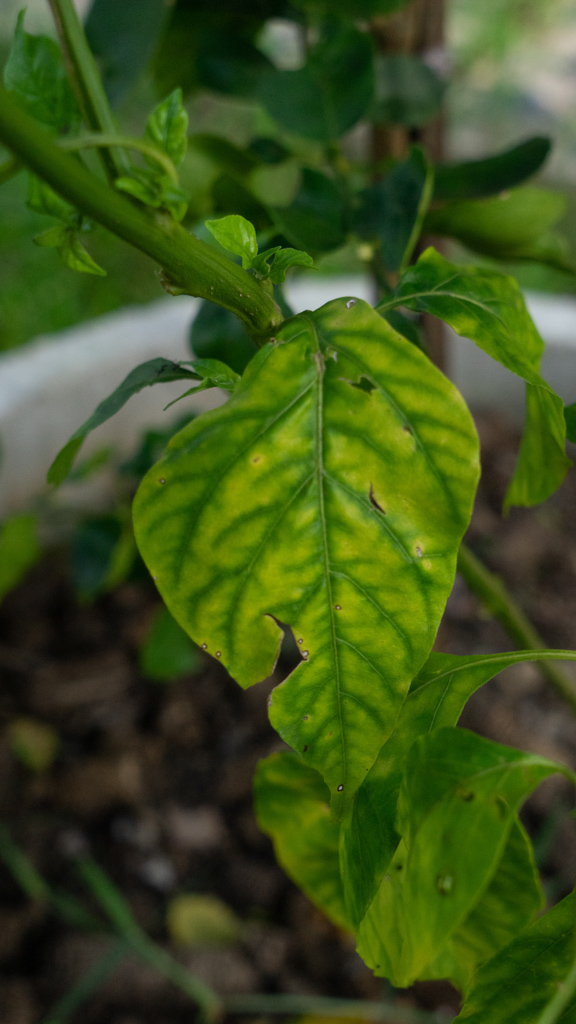frog-eye leafspot: (405, 533, 442, 578), (195, 635, 231, 662), (240, 448, 269, 473), (291, 630, 313, 662), (326, 597, 353, 620), (294, 709, 320, 730), (332, 776, 349, 796)
